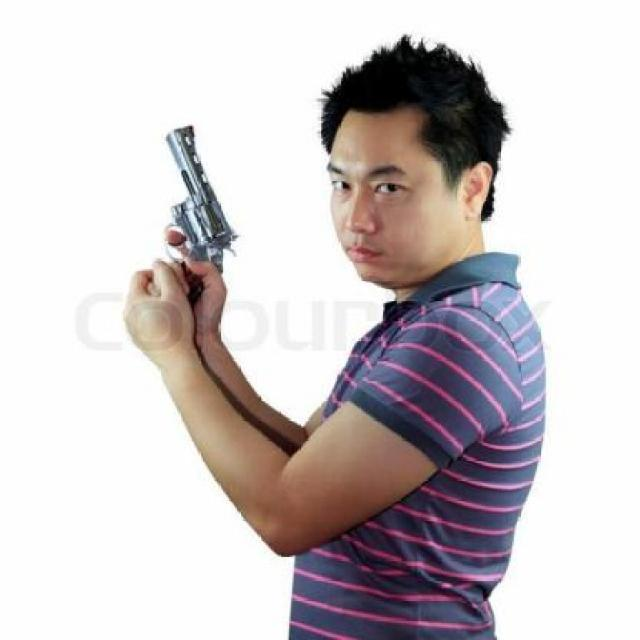gun: (162, 122, 242, 270)
